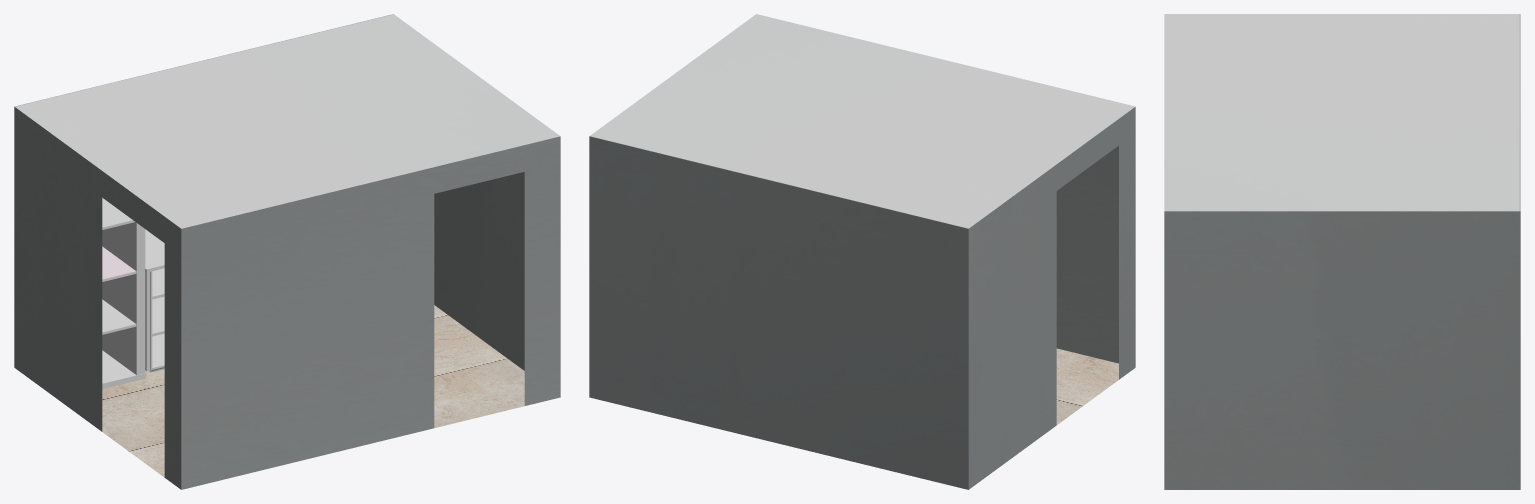
The model's file is utility0.1.0.fbx.
The picture shows the model from 3 angles, left to right: view 1: azimuth 30°, elevation 25°; view 2: azimuth 150°, elevation 25°; view 3: azimuth 270°, elevation 25°; orthographic projection. The views are drawn at different scales.
Parts seen in each view (by area): view 1: utilityRoomBox, Cube.011, Cube.006, Cube.013, Cube.005, Cube.009, Cube.008; view 2: utilityRoomBox; view 3: utilityRoomBox.
Boxes of the visible parts, x1,y1,x2,y2 form: utilityRoomBox: [14, 14, 560, 489]; Cube.011: [102, 222, 145, 375]; Cube.006: [145, 268, 164, 370]; Cube.013: [102, 350, 145, 388]; Cube.005: [145, 229, 164, 272]; Cube.009: [102, 246, 136, 281]; Cube.008: [102, 299, 136, 334]; utilityRoomBox: [589, 14, 1135, 489]; utilityRoomBox: [1164, 14, 1520, 489].
Bounding box in the file's own units: 1900 × 1250 × 1450.
